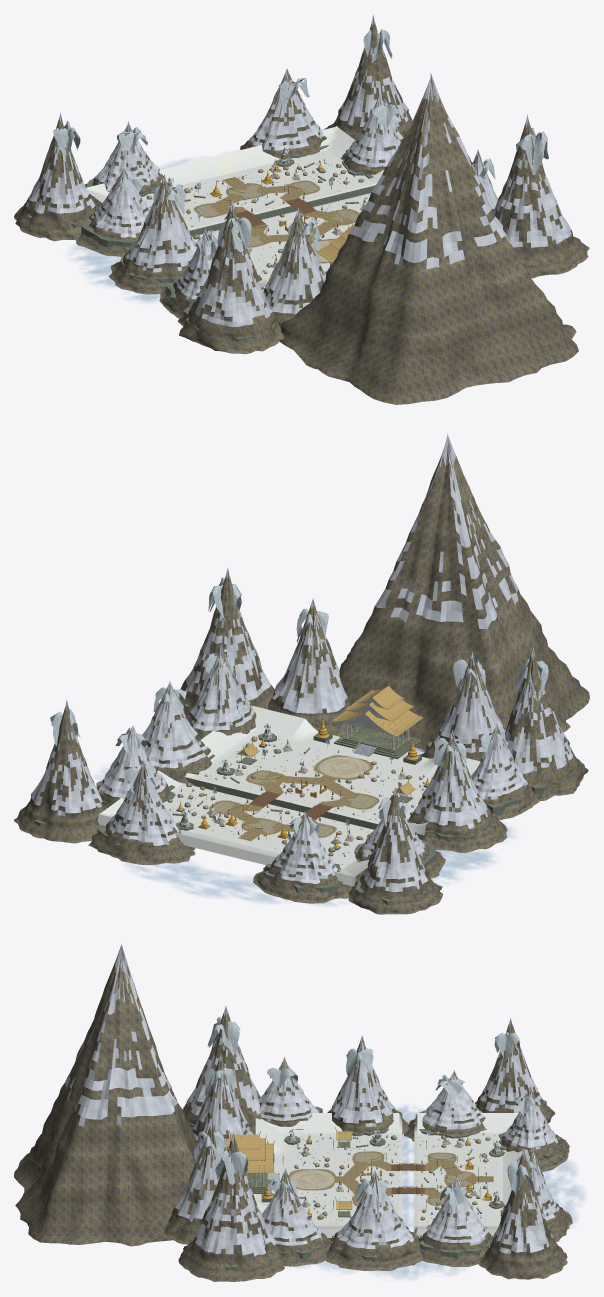
Rendered from kailash-peak.glb.
3 views of the same model, one above another, from view 1: azimuth 30°, elevation 25°; view 2: azimuth 150°, elevation 25°; view 3: azimuth 270°, elevation 25° (orthographic). The views are drawn at different scales.
Visible parts, largest first — view 1: v8 kailash summit | v8_mrock, Ground - varied meadow | ground_kailash_peak, v8 kailash summit | v8_snow, Summit snow shelves | white, v8 peak 16 | v8_mrock, v8 peak 17 | v8_mrock, v8 peak 18 | v8_mrock, v8 peak 16 | v8_snow, v8 peak 17 | v8_snow, v8 peak 8 | v8_mrock, v8 peak 8 | v8_snow, v8 peak 14 | v8_snow (+21 smaller); view 2: v8 kailash summit | v8_mrock, Ground - varied meadow | ground_kailash_peak, Summit snow shelves | white, Cloud sea beneath cliffs | cloudSoft, v8 kailash summit | v8_snow, v8 peak 19 | v8_mrock, v8 peak 16 | v8_mrock, v8 peak 18 | v8_mrock, v8 peak 15 | v8_snow, v8 peak 8 | v8_mrock, v8 peak 13 | v8_mrock, v8 peak 17 | v8_mrock (+28 smaller); view 3: v8 kailash summit | v8_mrock, Ground - varied meadow | ground_kailash_peak, Summit snow shelves | white, v8 kailash summit | v8_snow, v8 peak 17 | v8_mrock, Cloud sea beneath cliffs | cloudSoft, v8 peak 19 | v8_mrock, v8 peak 17 | v8_snow, v8 peak 9 | v8_mrock, v8 peak 9 | v8_snow, v8 peak 8 | v8_snow, v8 peak 7 | v8_snow (+28 smaller).
Part boxes in pixels (left/top/right/bottom): v8 kailash summit | v8_mrock: left=279, top=93, right=578, bottom=404; Ground - varied meadow | ground_kailash_peak: left=86, top=126, right=384, bottom=287; v8 kailash summit | v8_snow: left=349, top=73, right=509, bottom=269; Summit snow shelves | white: left=53, top=29, right=548, bottom=269; v8 peak 16 | v8_mrock: left=177, top=208, right=284, bottom=354; v8 peak 17 | v8_mrock: left=494, top=123, right=589, bottom=278; v8 peak 18 | v8_mrock: left=14, top=119, right=98, bottom=241; v8 peak 16 | v8_snow: left=195, top=200, right=272, bottom=326; v8 peak 17 | v8_snow: left=493, top=114, right=571, bottom=247; v8 peak 8 | v8_mrock: left=109, top=180, right=191, bottom=294; v8 peak 8 | v8_snow: left=125, top=174, right=197, bottom=272; v8 peak 14 | v8_snow: left=263, top=208, right=325, bottom=314; v8 kailash summit | v8_mrock: left=339, top=454, right=589, bottom=752; Ground - varied meadow | ground_kailash_peak: left=97, top=705, right=480, bottom=886; Summit snow shelves | white: left=50, top=577, right=548, bottom=835; Cloud sea beneath cliffs | cloudSoft: left=93, top=747, right=517, bottom=906; v8 kailash summit | v8_snow: left=375, top=433, right=518, bottom=629; v8 peak 19 | v8_mrock: left=14, top=706, right=105, bottom=843; v8 peak 16 | v8_mrock: left=505, top=654, right=588, bottom=801; v8 peak 18 | v8_mrock: left=348, top=793, right=442, bottom=914; v8 peak 15 | v8_snow: left=272, top=598, right=347, bottom=713; v8 peak 8 | v8_mrock: left=408, top=736, right=507, bottom=853; v8 peak 13 | v8_mrock: left=88, top=766, right=195, bottom=864; v8 peak 17 | v8_mrock: left=180, top=576, right=274, bottom=717; v8 kailash summit | v8_mrock: left=14, top=962, right=200, bottom=1246; Ground - varied meadow | ground_kailash_peak: left=255, top=1113, right=528, bottom=1237; Summit snow shelves | white: left=194, top=1017, right=540, bottom=1207; v8 kailash summit | v8_snow: left=65, top=944, right=177, bottom=1126; v8 peak 17 | v8_mrock: left=178, top=1140, right=284, bottom=1281; Cloud sea beneath cliffs | cloudSoft: left=253, top=1104, right=586, bottom=1280; v8 peak 19 | v8_mrock: left=478, top=1154, right=567, bottom=1279; v8 peak 17 | v8_snow: left=195, top=1132, right=276, bottom=1256; v8 peak 9 | v8_mrock: left=326, top=1175, right=422, bottom=1270; v8 peak 9 | v8_snow: left=337, top=1170, right=413, bottom=1248; v8 peak 8 | v8_snow: left=330, top=1035, right=393, bottom=1126; v8 peak 7 | v8_snow: left=262, top=1168, right=322, bottom=1245.
Size of the model in its own units: 286 by 183 by 377.
Materials: 19 (18 with a texture image).
